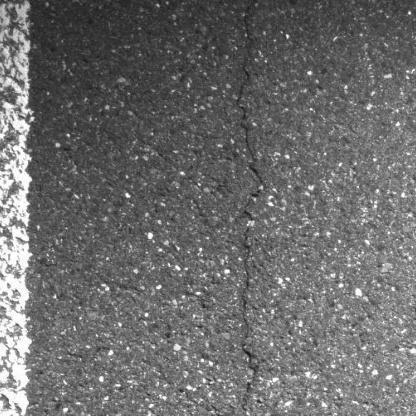Cracks: (231, 59, 272, 225), (237, 229, 262, 416), (241, 0, 261, 50)
